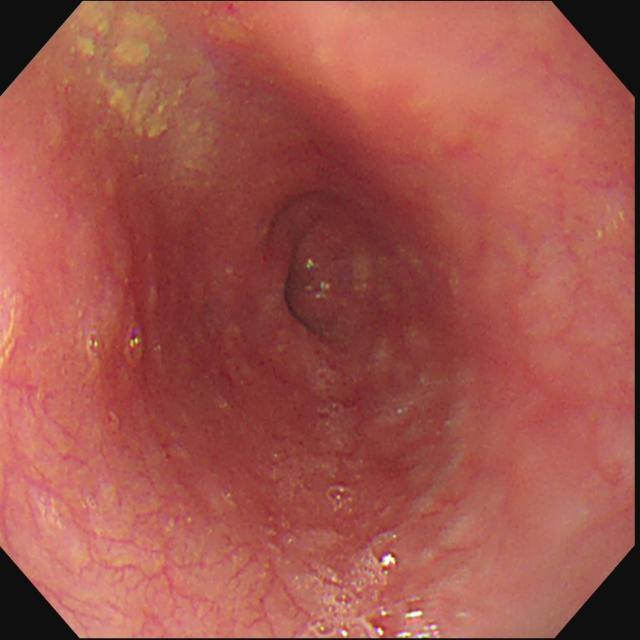J: (74, 6, 216, 173)
T: (307, 481, 390, 638)
U: (396, 598, 441, 638), (380, 552, 399, 571)
